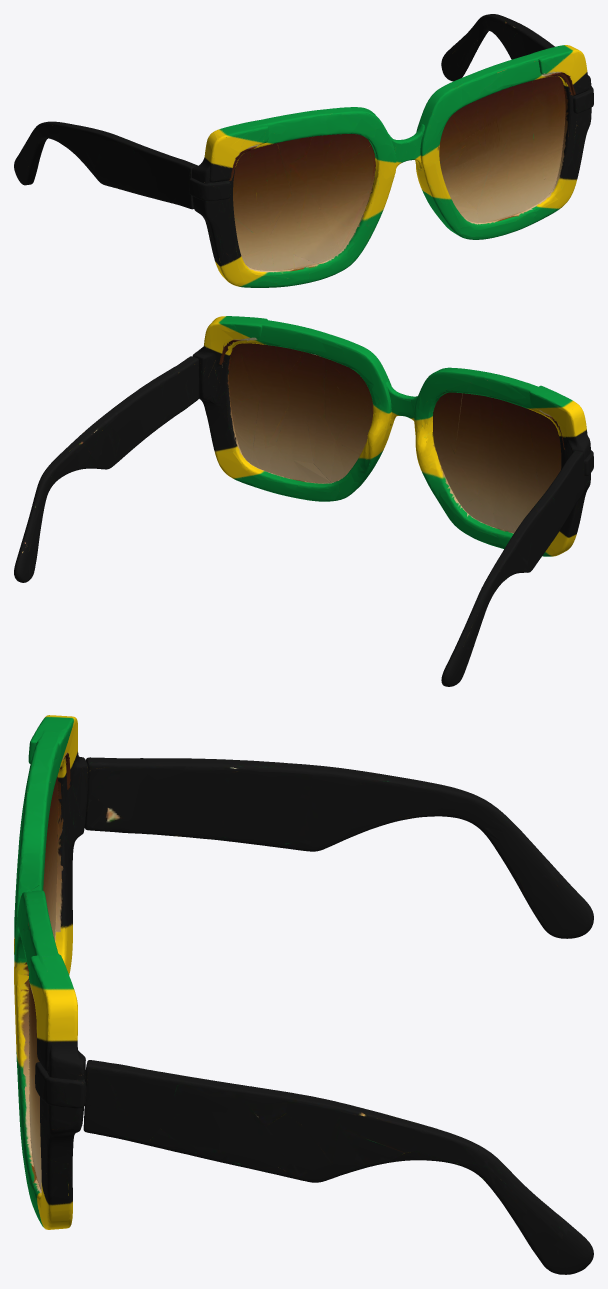
Rendered from bashment-shades-jamaica.glb.
3 renders of one model, top to bottom at view 1: azimuth 30°, elevation 25°; view 2: azimuth 150°, elevation 25°; view 3: azimuth 270°, elevation 25°, orthographic. The views are drawn at different scales.
Parts seen in each view (by area): view 1: Mesh_0; view 2: Mesh_0; view 3: Mesh_0.
Boxes of the visible parts, left/top/right/bottom form: Mesh_0: left=14, top=14, right=593, bottom=287; Mesh_0: left=14, top=316, right=593, bottom=686; Mesh_0: left=14, top=715, right=593, bottom=1274.
Bounding box in the file's own units: 17.1 × 6.08 × 11.82.
1 material, 1 textured.
